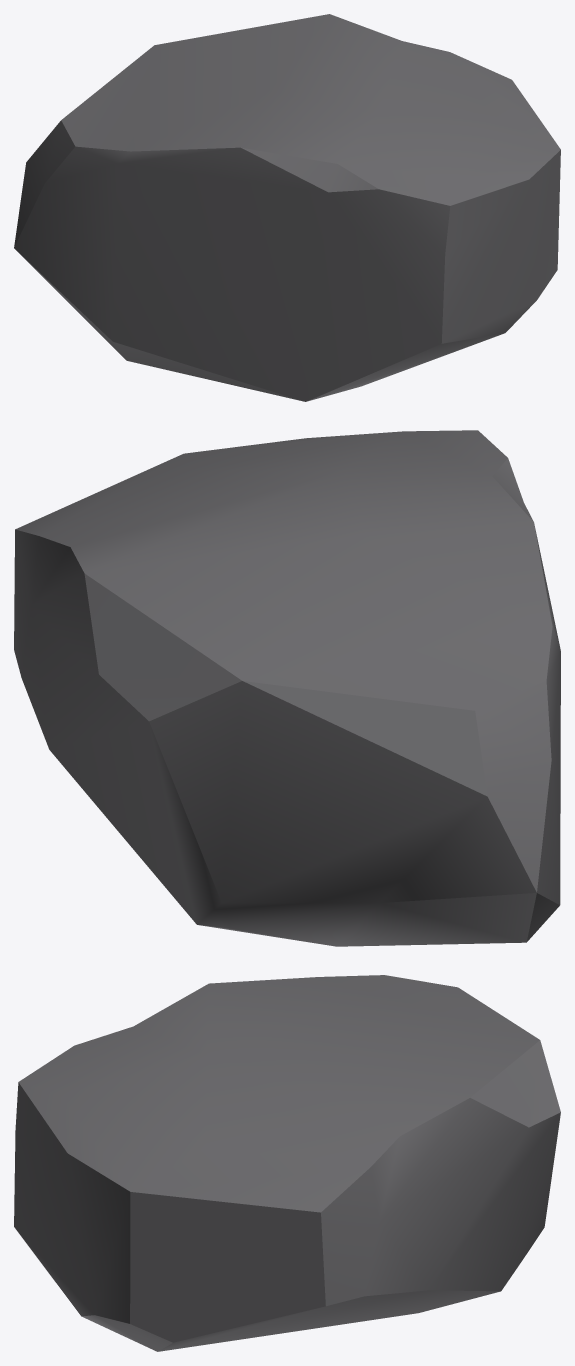
Rendered from Stone_11.fbx.
The picture shows the model from 3 angles, top to bottom: view 1: azimuth 30°, elevation 25°; view 2: azimuth 150°, elevation 25°; view 3: azimuth 270°, elevation 25°; orthographic projection. The views are drawn at different scales.
Visible parts, largest first — view 1: Stone_11; view 2: Stone_11; view 3: Stone_11.
Part boxes in pixels (x1,y1,x2,y2): Stone_11: [14, 14, 560, 401]; Stone_11: [14, 430, 560, 946]; Stone_11: [14, 975, 560, 1351].
Bounding box in the file's own units: 197 × 107 × 190.
